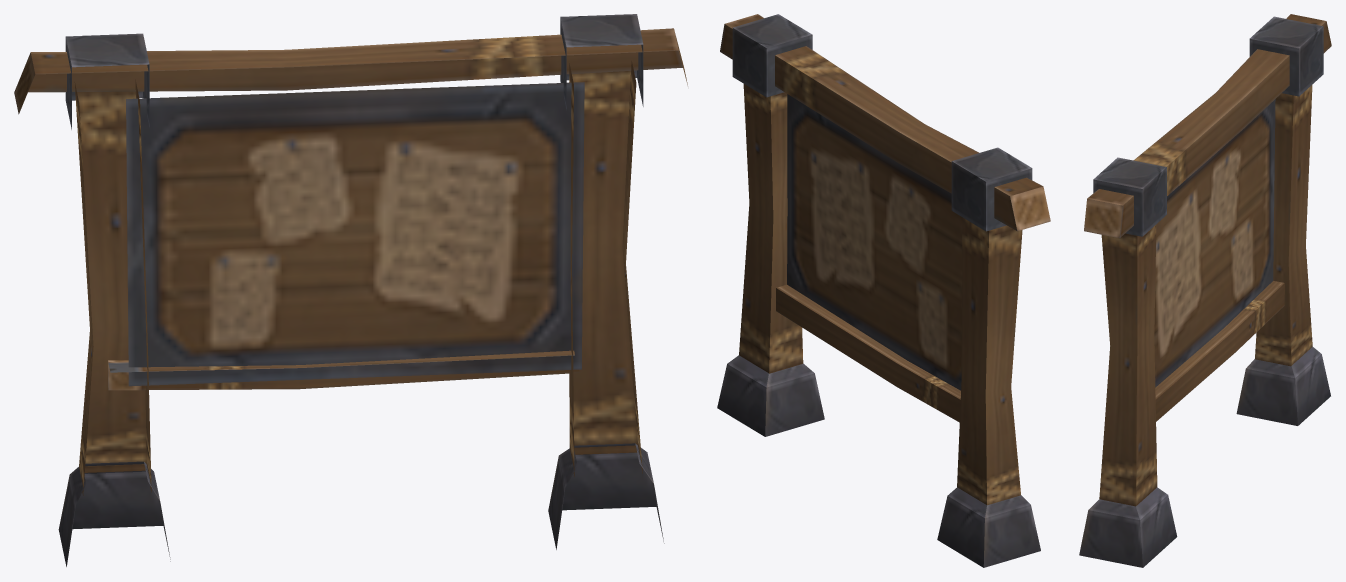
File: notice_board.FBX
The picture shows the model from 3 angles, left to right: view 1: azimuth 30°, elevation 25°; view 2: azimuth 150°, elevation 25°; view 3: azimuth 270°, elevation 25°; orthographic projection. The views are drawn at different scales.
Parts seen in each view (by area): view 1: Object004; view 2: Object004; view 3: Object004.
Part boxes in pixels (x1,y1,x2,y2): Object004: [14, 14, 687, 566]; Object004: [717, 14, 1050, 567]; Object004: [1079, 14, 1331, 567].
Size of the model in its own units: 73.49 by 63.88 by 39.37.
